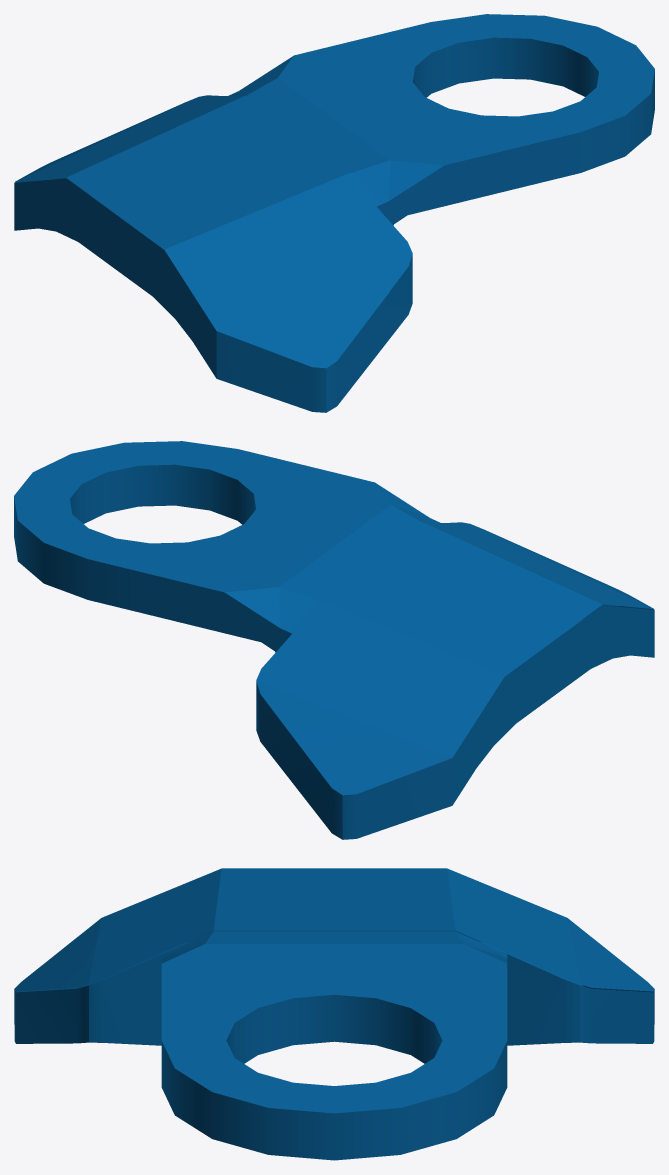
Rendered from rigid_pauldron.fbx.
3 views of the same model, one above another, from view 1: azimuth 30°, elevation 25°; view 2: azimuth 150°, elevation 25°; view 3: azimuth 270°, elevation 25° (orthographic). The views are drawn at different scales.
Parts seen in each view (by area): view 1: rigid pauldron; view 2: rigid pauldron; view 3: rigid pauldron.
Boxes of the visible parts, <box> form: rigid pauldron: <box>14,14,654,412</box>; rigid pauldron: <box>14,441,654,839</box>; rigid pauldron: <box>14,868,654,1160</box>.
Bounding box in the file's own units: 1600 × 459 × 1483.
